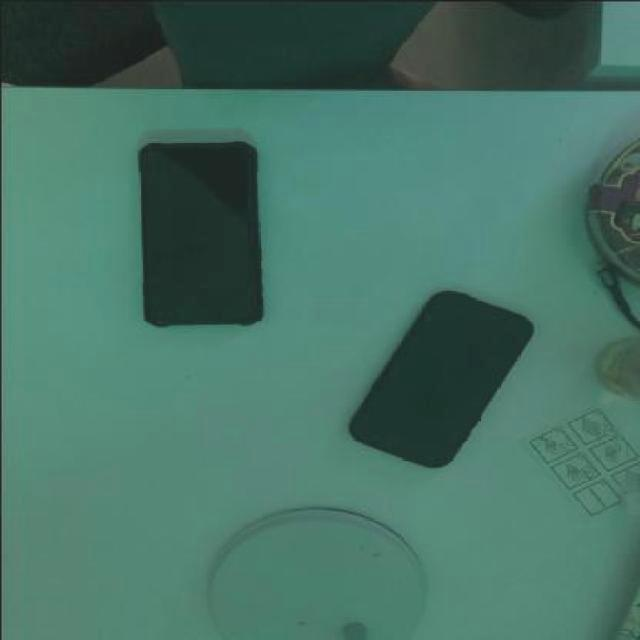phone: (346, 290, 536, 470), (129, 138, 263, 326)
